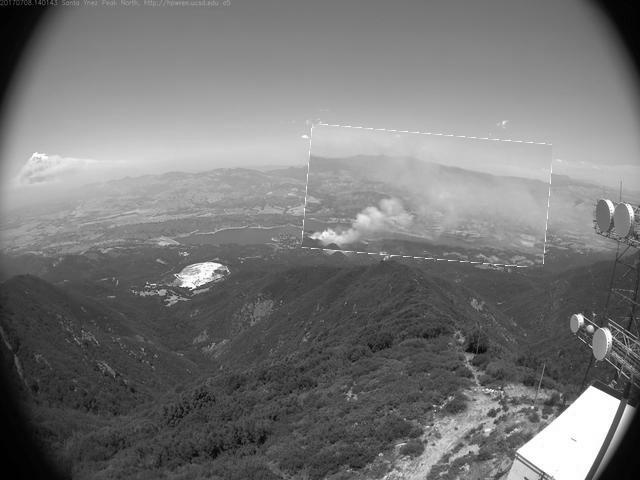smoke: (306, 130, 552, 264)
